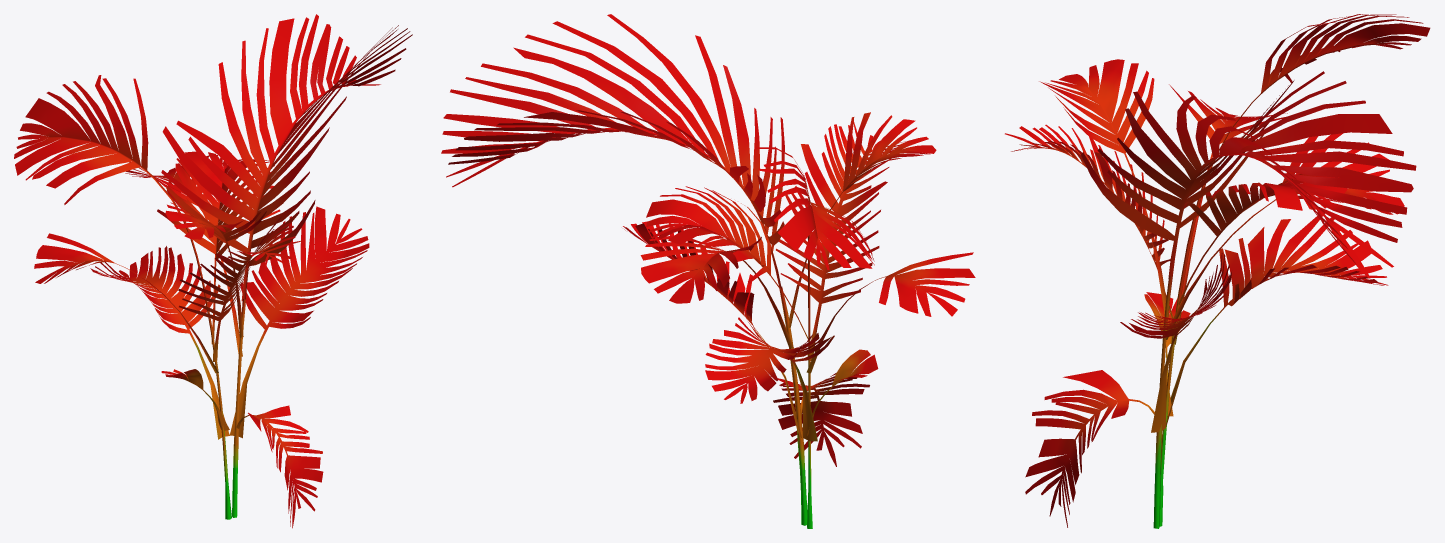
File: PlantPalm09.fbx
3 renders of one model, left to right at view 1: azimuth 30°, elevation 25°; view 2: azimuth 150°, elevation 25°; view 3: azimuth 270°, elevation 25°, orthographic. The views are drawn at different scales.
Parts seen in each view (by area): view 1: _89e2_Var5_LOD0; view 2: _89e2_Var5_LOD0; view 3: _89e2_Var5_LOD0.
Boxes of the visible parts, x1=… form: _89e2_Var5_LOD0: x1=14, y1=14, x2=412, y2=528; _89e2_Var5_LOD0: x1=441, y1=14, x2=975, y2=528; _89e2_Var5_LOD0: x1=1005, y1=14, x2=1430, y2=528.
Bounding box in the file's own units: 255 × 251 × 184.
